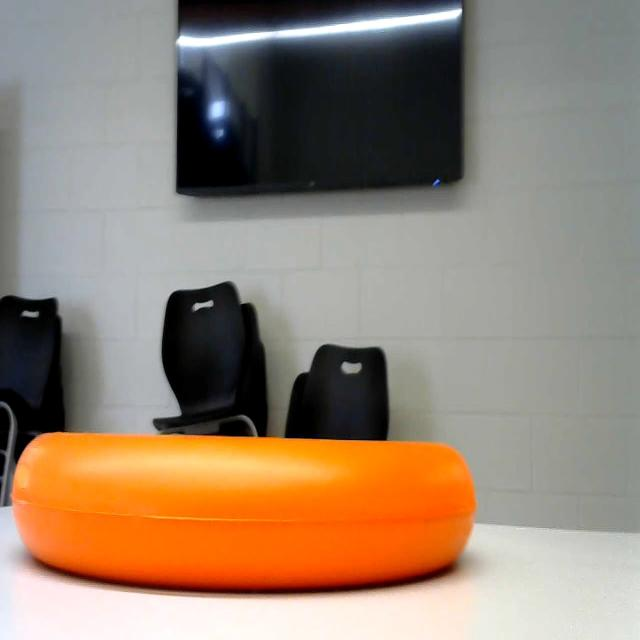note: (8, 410, 508, 591)
